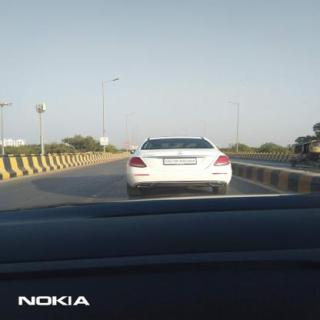Normal_vehicle: (126, 136, 232, 196)
